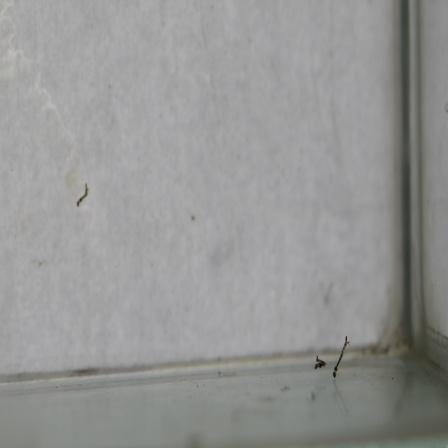Jentik-Nyamuk: (328, 332, 351, 382), (70, 179, 92, 210), (308, 352, 328, 372)
